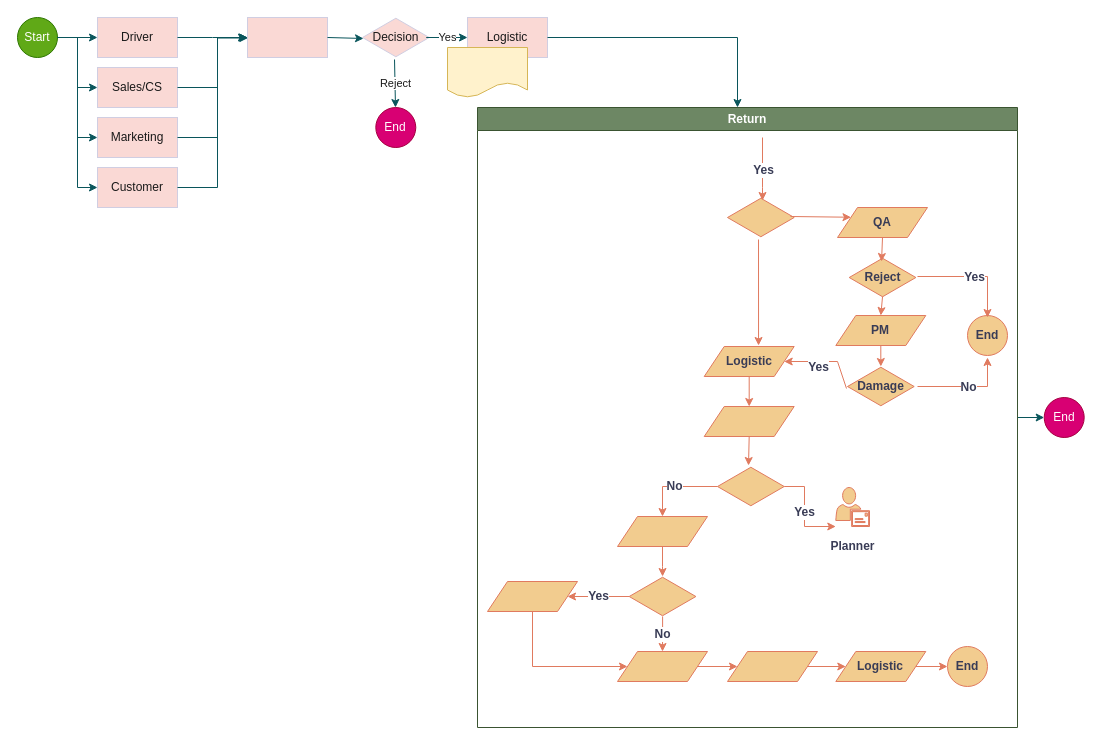
Some shapes in this 1102 by 745 pixel diagram are drawn without their labels. The centre of each missing label's shape, as x and y in pixels:
"Account" belongs at (x=772, y=666).
"CS" belongs at (x=662, y=666).
"PD WIP" belongs at (x=532, y=596).
"QC" belongs at (x=748, y=421).
"Rework" belongs at (x=750, y=486).
"Rework หน้างาน" belongs at (x=760, y=217).
"Sales Manager" belongs at (x=287, y=37).
"WH" belongs at (x=662, y=531).
"ฟอร์ม ใบรับคืนของลูกค้า" belongs at (x=487, y=72).
"รับคืน ตรวจสอบ" belongs at (x=662, y=596).
